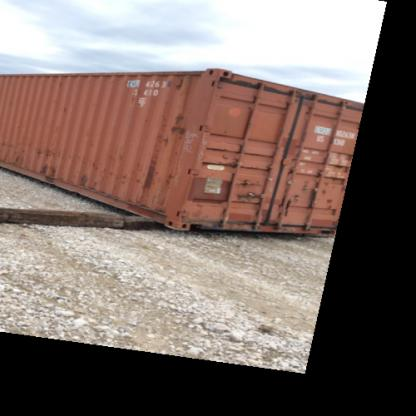Damage: (141, 139, 165, 195), (231, 172, 268, 200), (251, 198, 283, 230), (170, 106, 192, 138), (35, 156, 63, 180), (76, 170, 92, 188)
